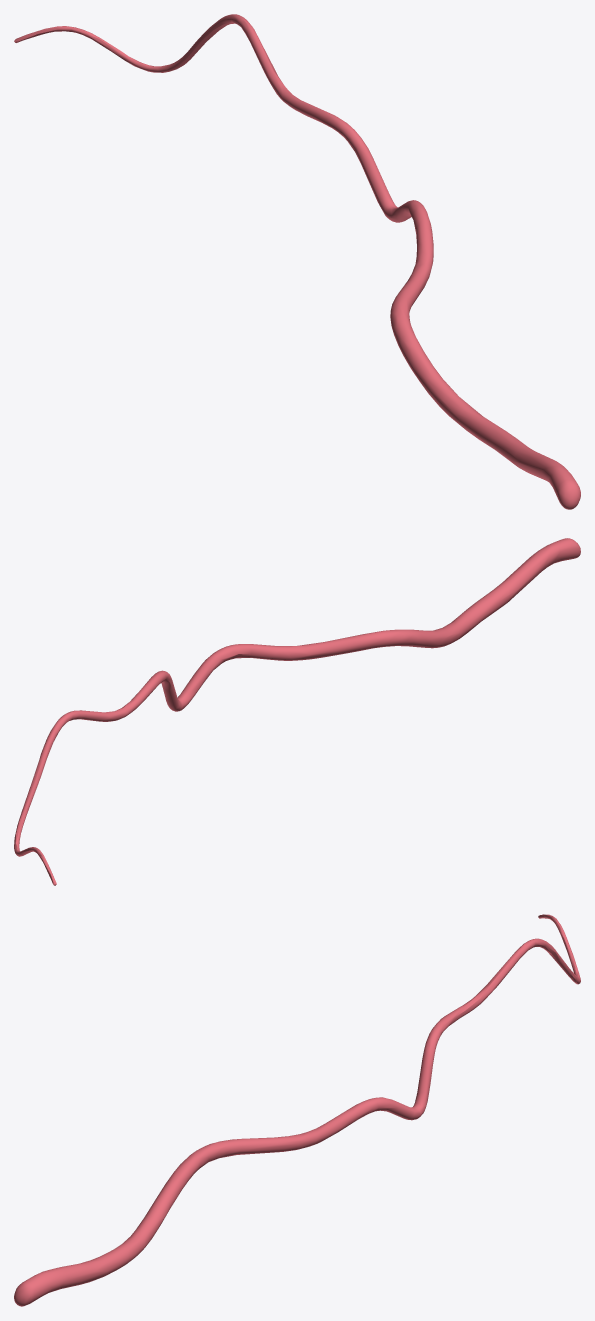
File: fma86134_fj1687.glb
3 renders of one model, top to bottom at view 1: azimuth 30°, elevation 25°; view 2: azimuth 150°, elevation 25°; view 3: azimuth 330°, elevation 25°, orthographic. The views are drawn at different scales.
Visible parts, largest first — view 1: FMA86134_FJ1687; view 2: FMA86134_FJ1687; view 3: FMA86134_FJ1687.
Part boxes in pixels (bbox=[...]): FMA86134_FJ1687: bbox=[14, 14, 580, 509]; FMA86134_FJ1687: bbox=[14, 538, 580, 885]; FMA86134_FJ1687: bbox=[14, 914, 580, 1306].
Bounding box in the file's own units: 0.0115 × 0.00951 × 0.0737.
